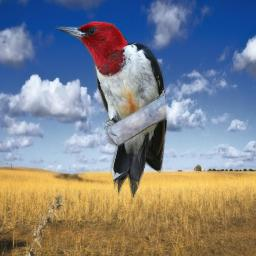Woodpecker: (55, 20, 167, 198)
